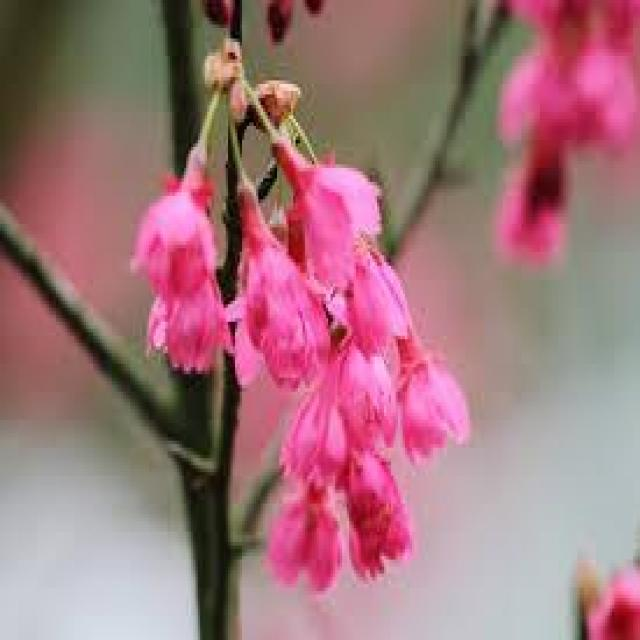organic waste: (186, 72, 333, 383), (258, 79, 384, 292), (146, 68, 232, 296), (325, 241, 420, 371), (273, 353, 362, 490), (391, 343, 477, 472), (327, 479, 418, 577), (147, 280, 226, 374), (341, 353, 411, 451)
